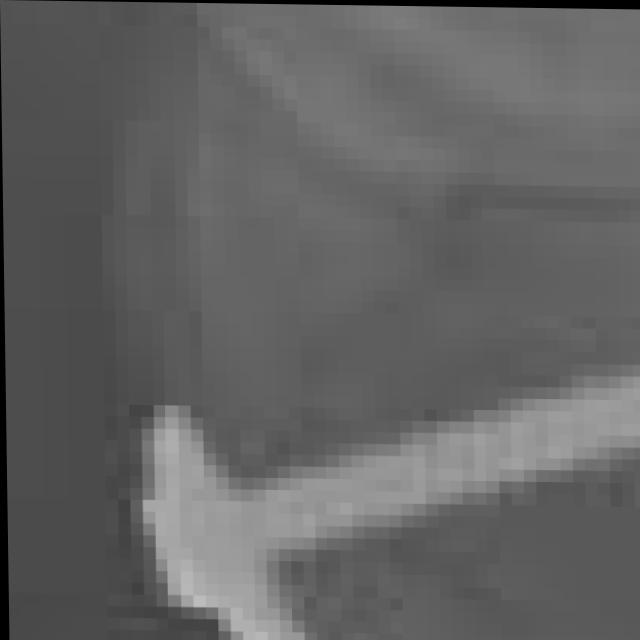fracture: (2, 4, 639, 640)
